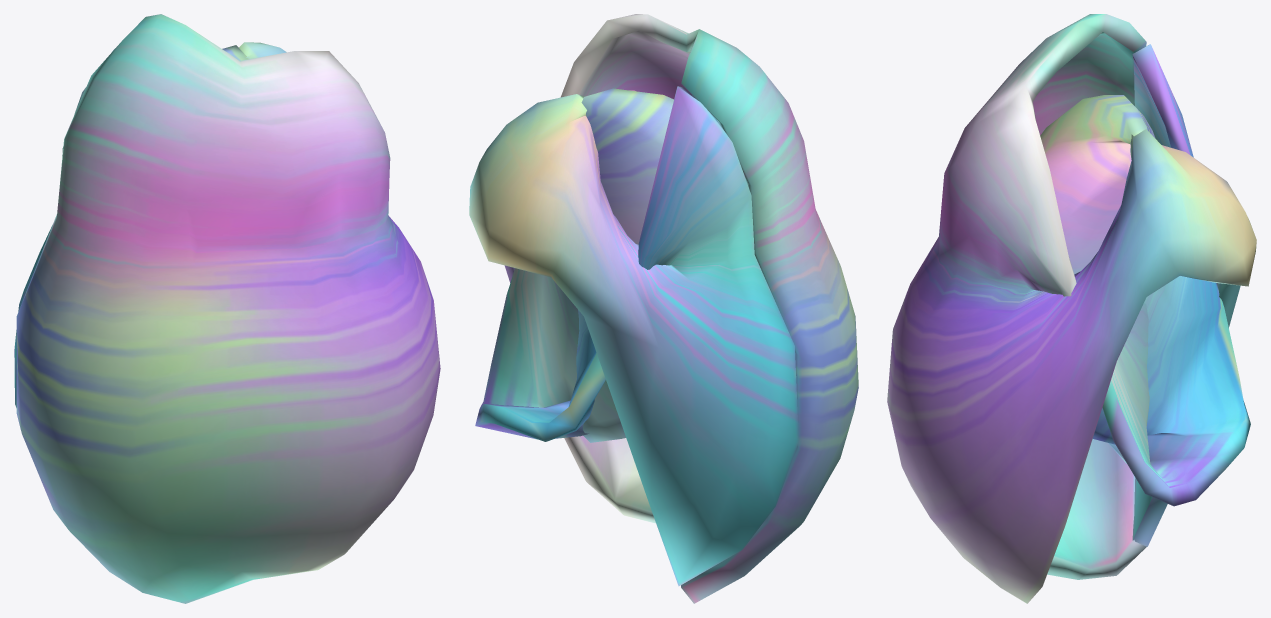
Rendered from randomshape5.glb.
3 renders of one model, left to right at view 1: azimuth 30°, elevation 25°; view 2: azimuth 150°, elevation 25°; view 3: azimuth 270°, elevation 25°, orthographic. The views are drawn at different scales.
Visible parts, largest first — view 1: SuperShapesMesh.005; view 2: SuperShapesMesh.005; view 3: SuperShapesMesh.005.
Part boxes in pixels (x1,y1,x2,y2): SuperShapesMesh.005: [14, 14, 440, 603]; SuperShapesMesh.005: [469, 14, 858, 603]; SuperShapesMesh.005: [887, 14, 1256, 603].
Bounding box in the file's own units: 2.18 × 3.42 × 2.04.
Materials: 1 (1 with a texture image).
